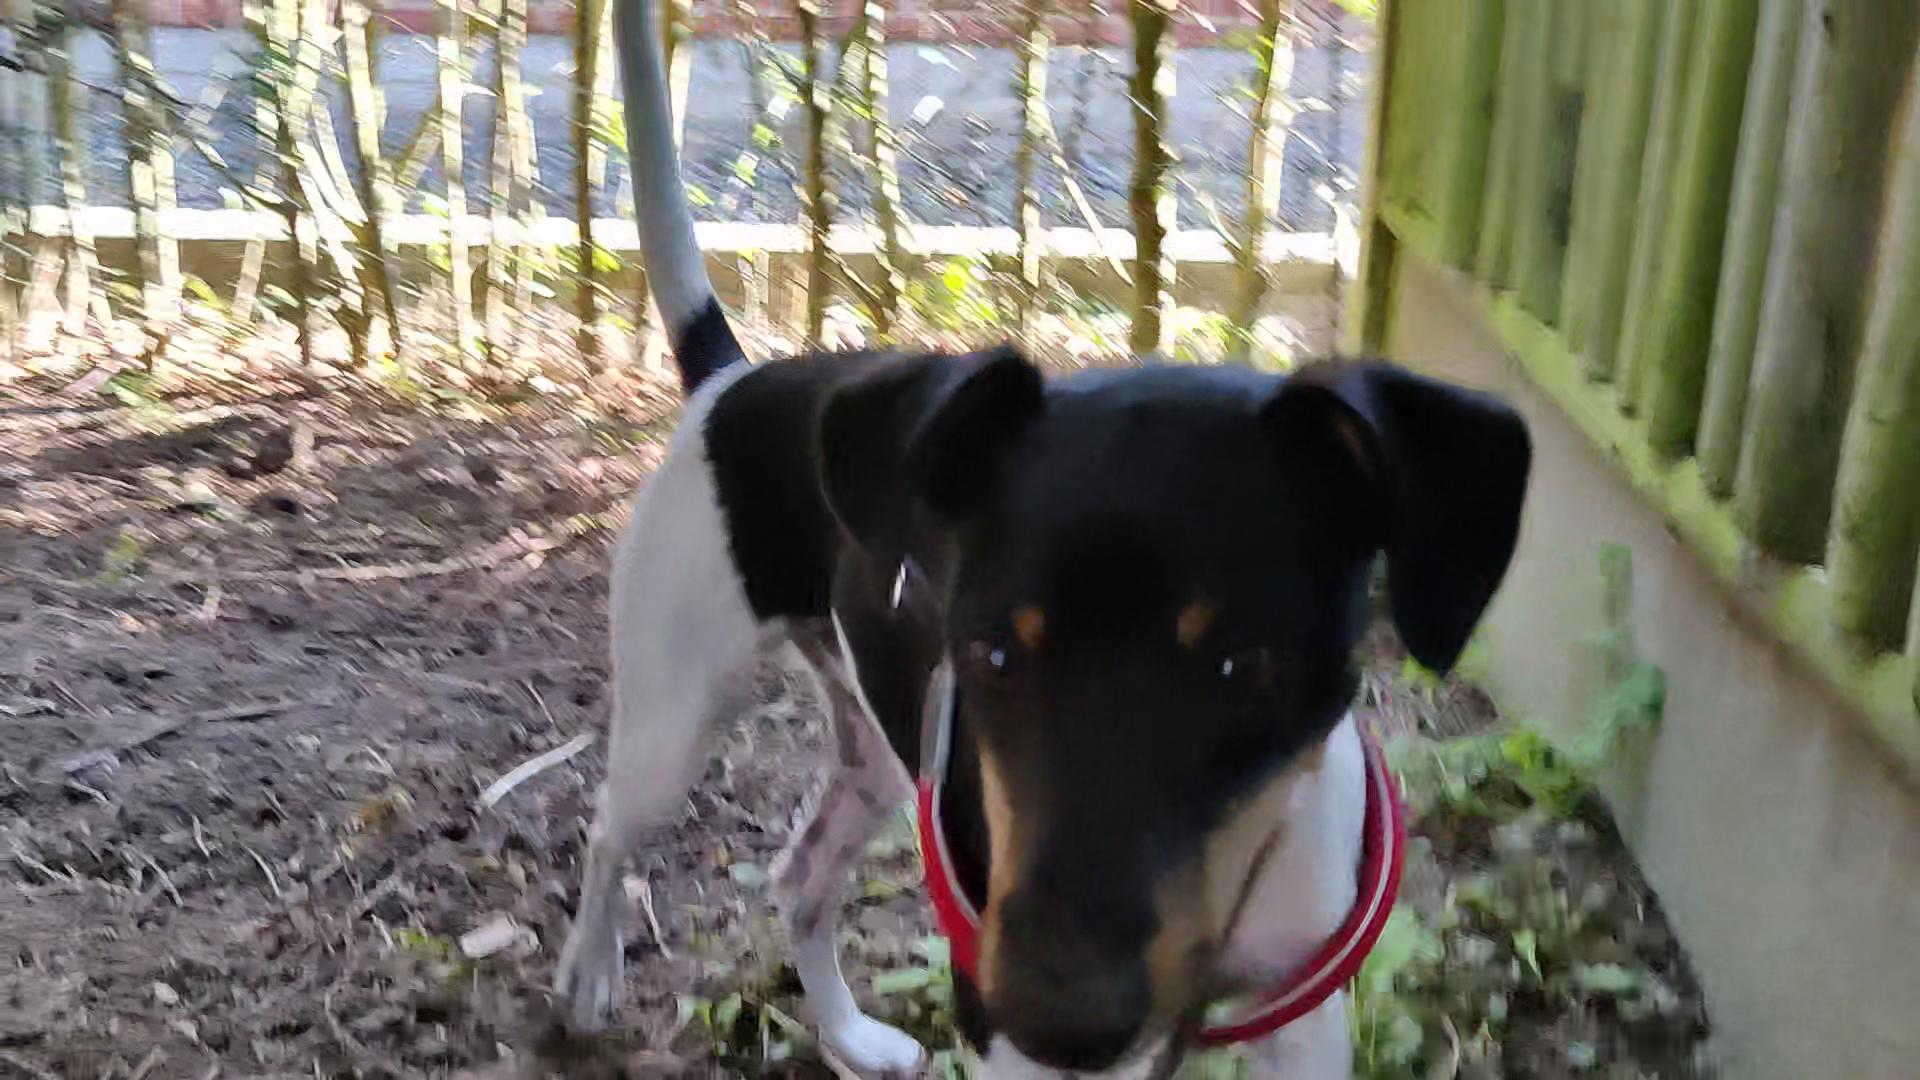Dog: (539, 0, 1543, 1080)
